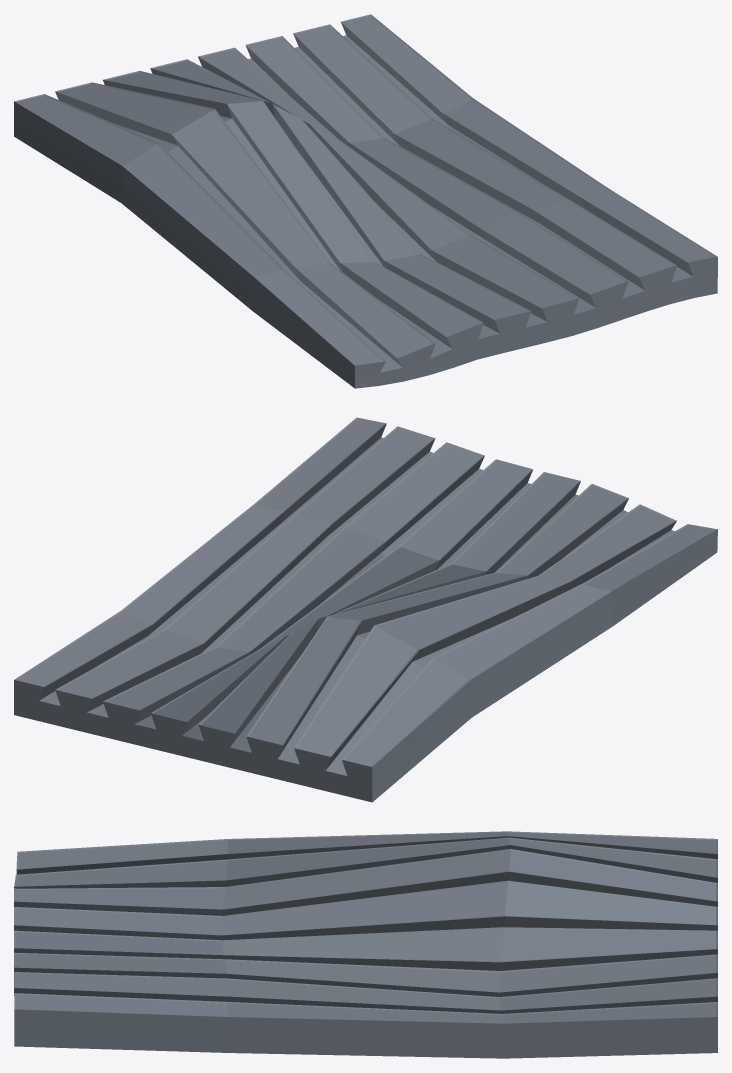
The model's file is board_cutter-machine_001.fbx.
3 renders of one model, top to bottom at view 1: azimuth 30°, elevation 25°; view 2: azimuth 150°, elevation 25°; view 3: azimuth 270°, elevation 25°, orthographic. The views are drawn at different scales.
Parts seen in each view (by area): view 1: board.cutter-machine.001; view 2: board.cutter-machine.001; view 3: board.cutter-machine.001.
Part boxes in pixels (x1,y1,x2,y2): board.cutter-machine.001: (14, 14, 717, 388); board.cutter-machine.001: (14, 417, 717, 802); board.cutter-machine.001: (14, 831, 717, 1058).
Bounding box in the file's own units: 0.2908 × 0.0767 × 0.4798.
